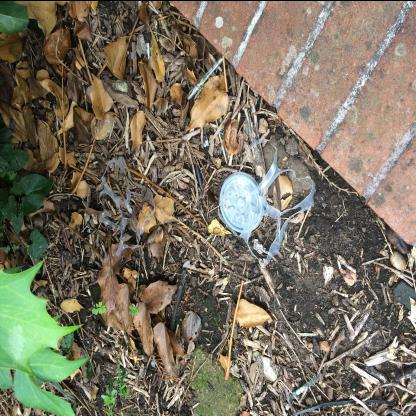plastik: (218, 138, 316, 270), (99, 154, 156, 257), (219, 170, 264, 232)
